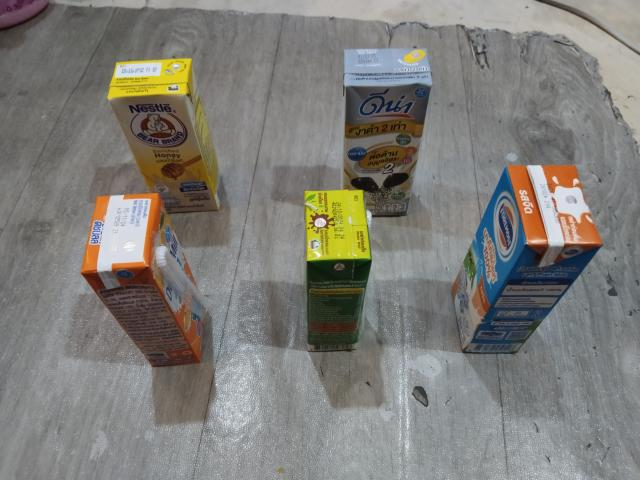drink_box: (440, 153, 611, 360), (67, 190, 216, 381), (110, 52, 237, 210), (338, 40, 446, 220), (293, 183, 375, 364)
